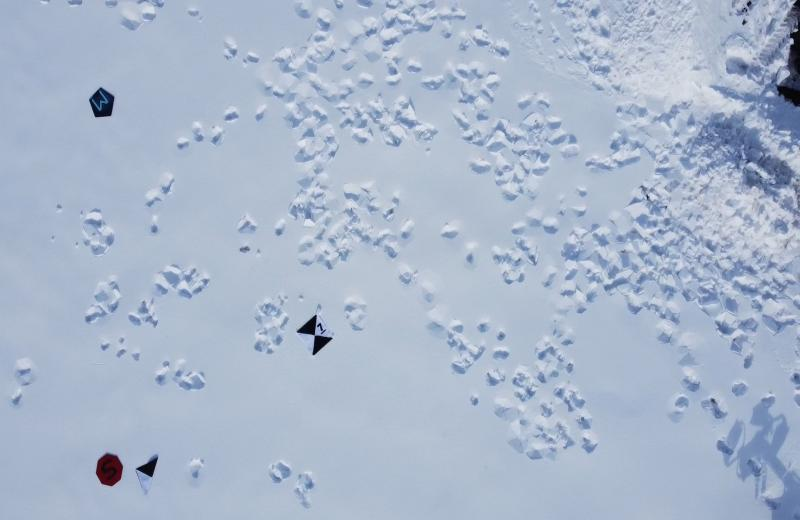Octagon: (96, 454, 126, 488)
Pentagon: (89, 80, 118, 120)
